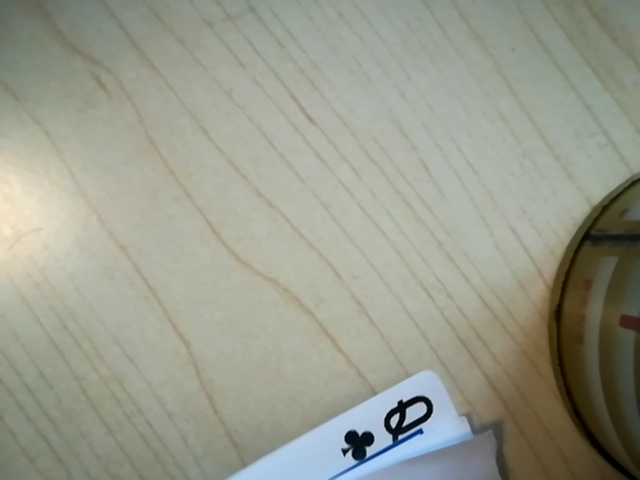mh q: (329, 390, 450, 472)
